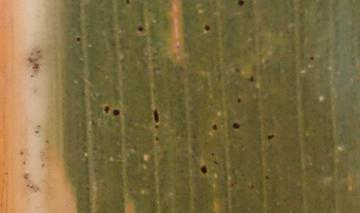tarspot: (23, 182, 41, 193), (25, 55, 42, 64), (152, 108, 160, 123), (198, 164, 208, 175), (230, 121, 242, 130), (111, 108, 121, 118), (21, 171, 31, 181), (31, 62, 40, 73), (102, 104, 110, 116), (73, 35, 82, 44), (211, 123, 219, 132), (247, 74, 255, 83), (136, 25, 144, 33), (203, 24, 211, 32), (267, 134, 275, 141), (212, 159, 220, 166), (233, 66, 241, 73), (34, 48, 42, 55), (174, 43, 181, 51), (153, 123, 160, 130), (18, 150, 25, 157), (28, 73, 35, 80), (236, 1, 244, 7), (44, 137, 50, 145), (39, 161, 45, 169), (21, 159, 27, 167), (154, 135, 160, 142), (33, 129, 40, 135), (308, 55, 315, 61), (248, 184, 255, 190), (35, 123, 41, 130), (3, 170, 10, 176), (207, 102, 214, 108), (236, 96, 241, 104), (264, 174, 270, 180), (209, 151, 215, 156), (229, 182, 234, 188), (124, 1, 131, 5)
